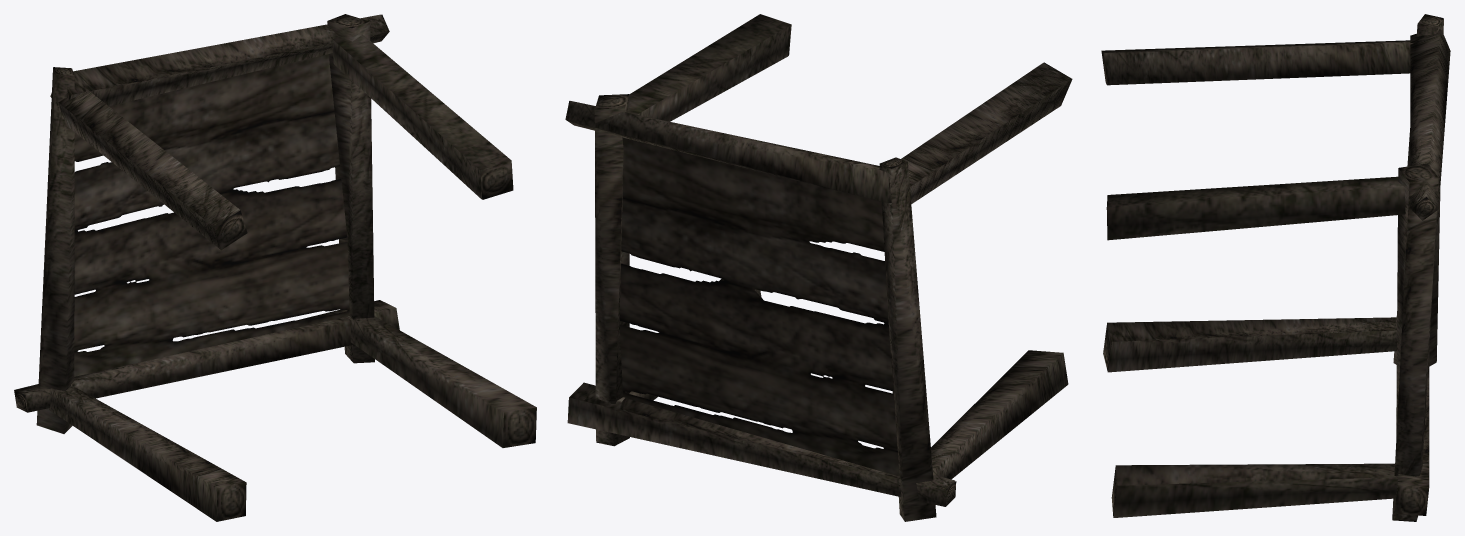
The model's file is MEP_Stool.fbx.
The picture shows the model from 3 angles, left to right: view 1: azimuth 30°, elevation 25°; view 2: azimuth 150°, elevation 25°; view 3: azimuth 270°, elevation 25°; orthographic projection. The views are drawn at different scales.
Parts seen in each view (by area): view 1: MEP_Stool; view 2: MEP_Stool; view 3: MEP_Stool.
Part boxes in pixels (bbox=[...]): MEP_Stool: bbox=[14, 14, 536, 521]; MEP_Stool: bbox=[565, 14, 1072, 521]; MEP_Stool: bbox=[1101, 14, 1450, 521].
Size of the model in its own units: 0.8201 by 0.7417 by 0.6595.
